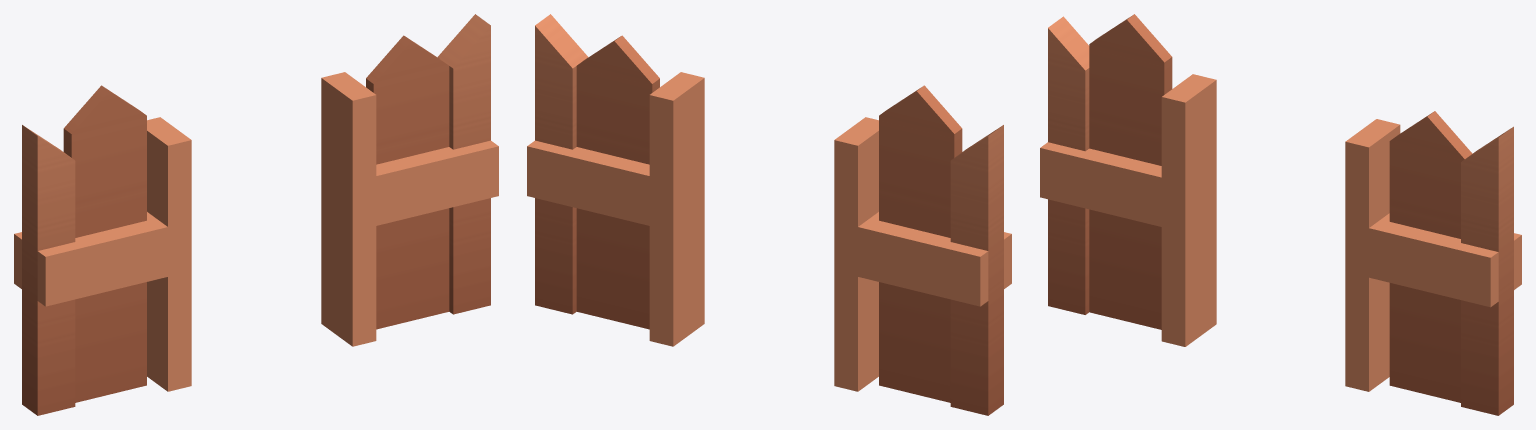
Rendered from fence-gate.glb.
3 views of the same model, side by side, from view 1: azimuth 30°, elevation 25°; view 2: azimuth 150°, elevation 25°; view 3: azimuth 330°, elevation 25° (orthographic).
Visible parts, largest first — view 1: Asset3DLoader.sceneRoot; view 2: Asset3DLoader.sceneRoot; view 3: Asset3DLoader.sceneRoot.
Boxes of the visible parts, x1,y1,x2,y2 form: Asset3DLoader.sceneRoot: (14, 14, 498, 415); Asset3DLoader.sceneRoot: (527, 14, 1011, 415); Asset3DLoader.sceneRoot: (1040, 14, 1521, 415).
Size of the model in its own units: 1 by 0.64 by 0.12.
1 material, 1 textured.
